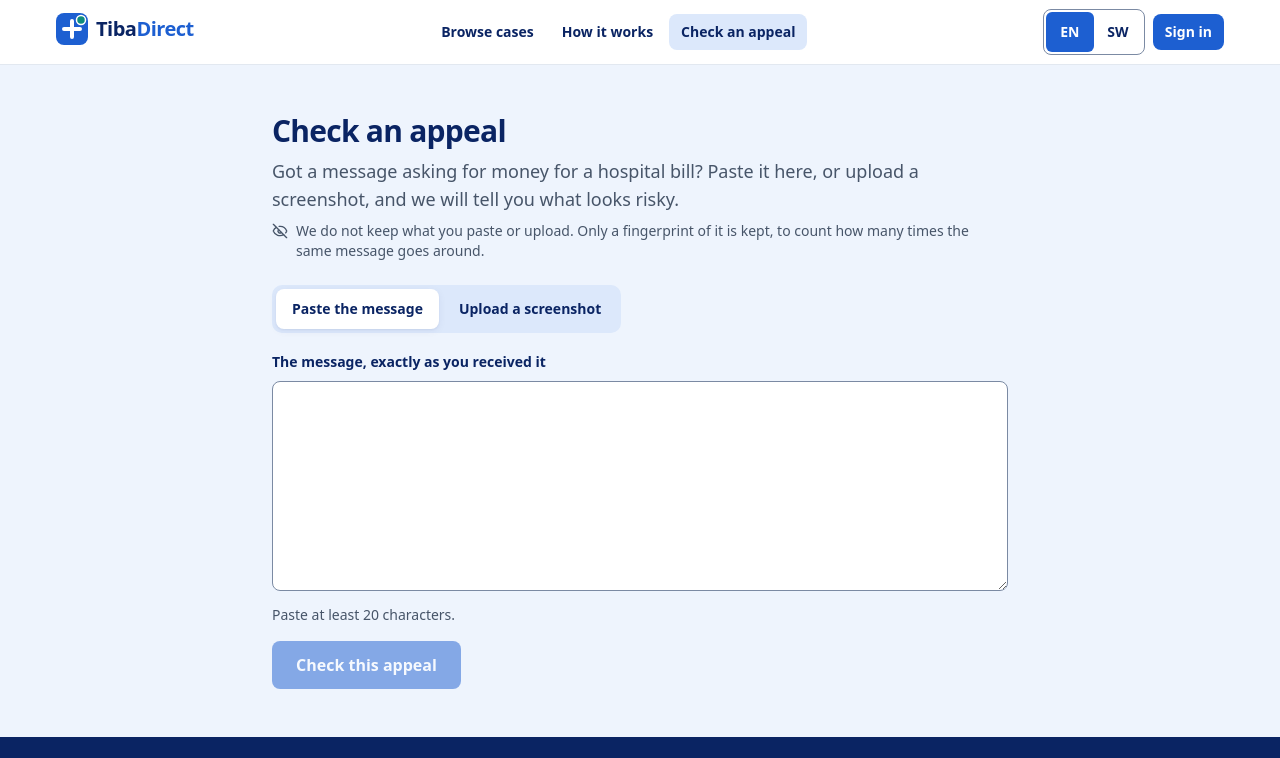
Test: appeal checker › links to the confirmed case when the appeal matches one
Type "URGENT!! Please send money to 0712 000 000 today, my child is in hospital and we have no time." into the text box labelled "The message, exactly as you received it" at [640, 486], box x1=272 y1=381 x2=1008 y2=591
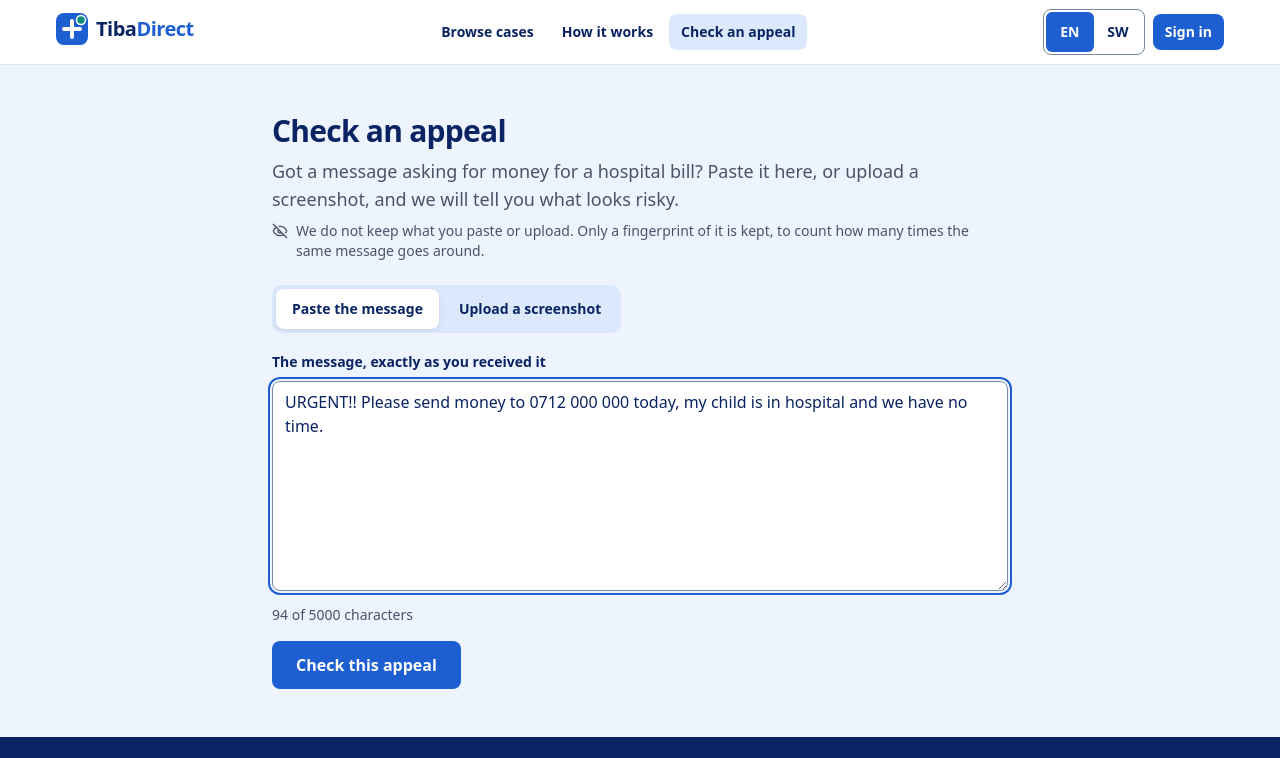
Click the button "Check this appeal" at [366, 665], box x1=272 y1=641 x2=461 y2=689
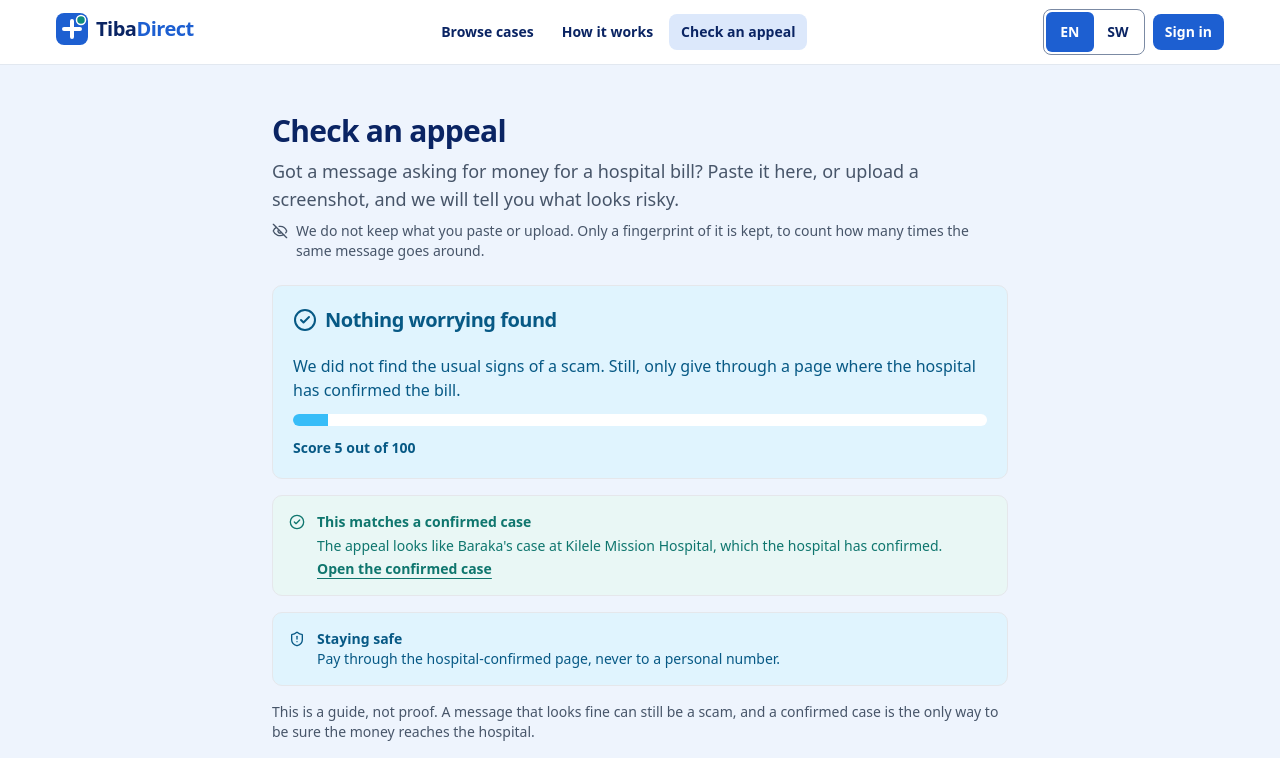
Expected: the text "This matches a confirmed case" is shown, x1=317 y1=512 x2=531 y2=531
Expected: the heading "Nothing worrying found" is shown, x1=293 y1=306 x2=557 y2=333
